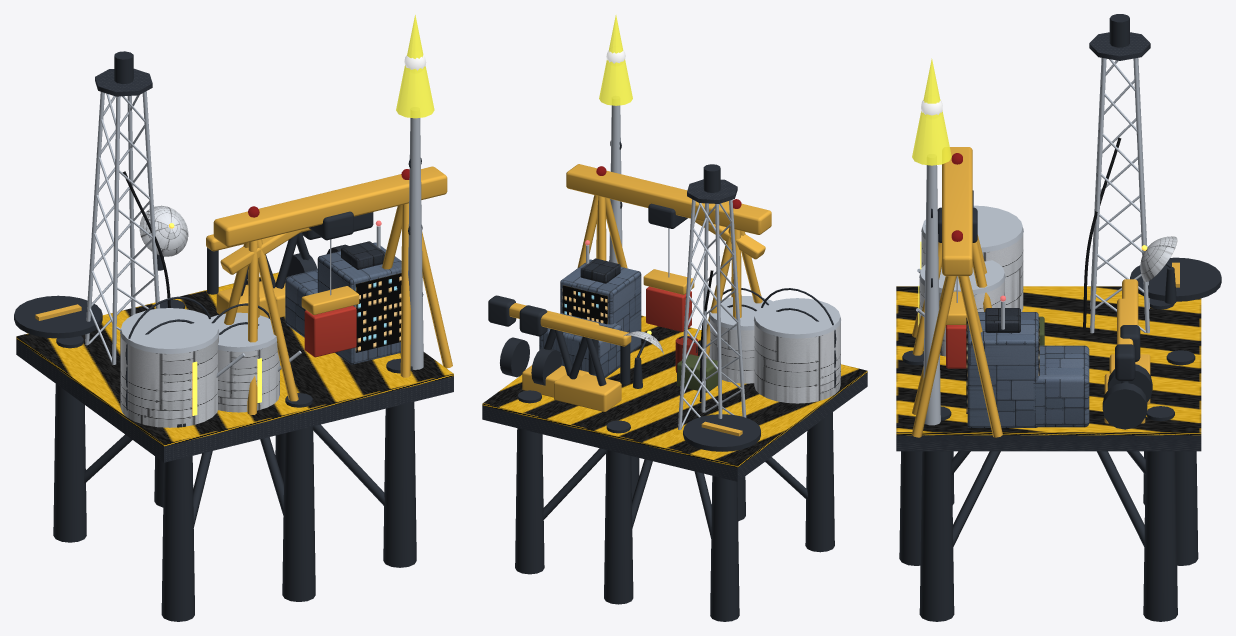
Rendered from platform-T3.glb.
The picture shows the model from 3 angles, left to right: view 1: azimuth 30°, elevation 25°; view 2: azimuth 150°, elevation 25°; view 3: azimuth 270°, elevation 25°; orthographic projection. The views are drawn at different scales.
Parts seen in each view (by area): view 1: object 14, object 13, object 90, object 112, object 11, object 7, object 5, object 1, anim:trolley, object 91, object 85, object 97 (+23 smaller); view 2: object 14, object 13, object 90, object 112, object 9, object 3, object 1, anim:swing (×2), object 5, anim:trolley, object 119, object 91 (+21 smaller); view 3: object 14, object 119, object 3, object 7, object 13, object 117, object 112, object 85, object 9, object 11, anim:flame, object 125 (+19 smaller).
Boxes of the visible parts, <box> form: object 14: <box>16,272,453,446</box>; object 13: <box>16,339,453,462</box>; object 90: <box>120,335,218,427</box>; object 112: <box>213,166,447,247</box>; object 11: <box>282,393,315,601</box>; object 7: <box>383,358,416,567</box>; object 5: <box>161,423,194,621</box>; object 1: <box>53,336,86,542</box>; anim:trolley: <box>301,211,359,357</box>; object 91: <box>120,308,219,353</box>; object 85: <box>408,118,423,369</box>; object 97: <box>218,341,279,412</box>; object 14: <box>482,315,867,467</box>; object 13: <box>482,373,867,481</box>; object 90: <box>754,322,840,403</box>; object 112: <box>566,164,771,234</box>; object 9: <box>604,420,633,604</box>; object 3: <box>515,390,544,574</box>; object 1: <box>710,476,739,621</box>; anim:swing (×2): <box>488,295,631,384</box>; object 5: <box>805,412,834,552</box>; anim:trolley: <box>643,203,694,331</box>; object 119: <box>560,259,641,353</box>; object 91: <box>754,298,840,338</box>; object 14: <box>896,286,1201,435</box>; object 119: <box>967,312,1038,427</box>; object 3: <box>1143,406,1177,621</box>; object 7: <box>919,406,954,621</box>; object 13: <box>896,434,1201,451</box>; object 117: <box>1033,345,1089,427</box>; object 112: <box>942,147,972,276</box>; object 85: <box>923,165,940,425</box>; object 9: <box>1166,350,1198,565</box>; object 11: <box>899,350,923,565</box>; anim:flame: <box>912,58,951,165</box>; object 125: <box>1130,257,1221,301</box>.
Bounding box in the file's own units: 3.82 × 6.11 × 3.2.
20 materials, 6 textured.
